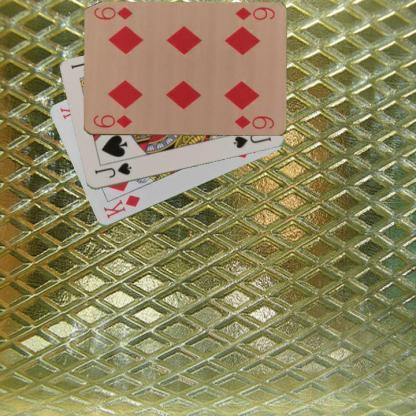6d: (91, 112, 133, 130), (232, 5, 276, 22)
Js: (92, 160, 132, 180)
Kd: (101, 192, 142, 221)
